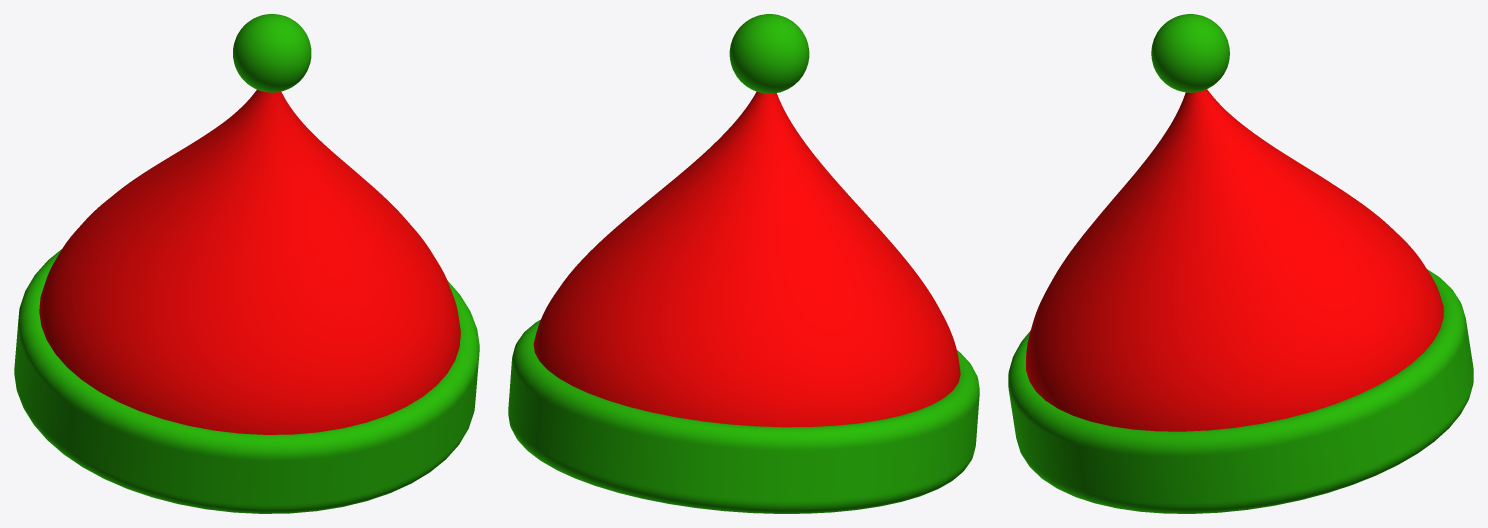
Rendered from elfsHat.gltf.
3 renders of one model, left to right at view 1: azimuth 30°, elevation 25°; view 2: azimuth 150°, elevation 25°; view 3: azimuth 270°, elevation 25°, orthographic.
Parts seen in each view (by area): view 1: Boole-Mat, Boole-Mat.1; view 2: Boole-Mat, Boole-Mat.1; view 3: Boole-Mat, Boole-Mat.1.
Part boxes in pixels (left/top/right/bottom): Boole-Mat: left=39, top=90, right=460, bottom=434; Boole-Mat.1: left=14, top=14, right=479, bottom=513; Boole-Mat: left=533, top=91, right=960, bottom=427; Boole-Mat.1: left=508, top=14, right=979, bottom=513; Boole-Mat: left=1026, top=89, right=1443, bottom=431; Boole-Mat.1: left=1008, top=14, right=1473, bottom=513.
Bounding box in the file's own units: 9.4 × 9.58 × 9.45.
